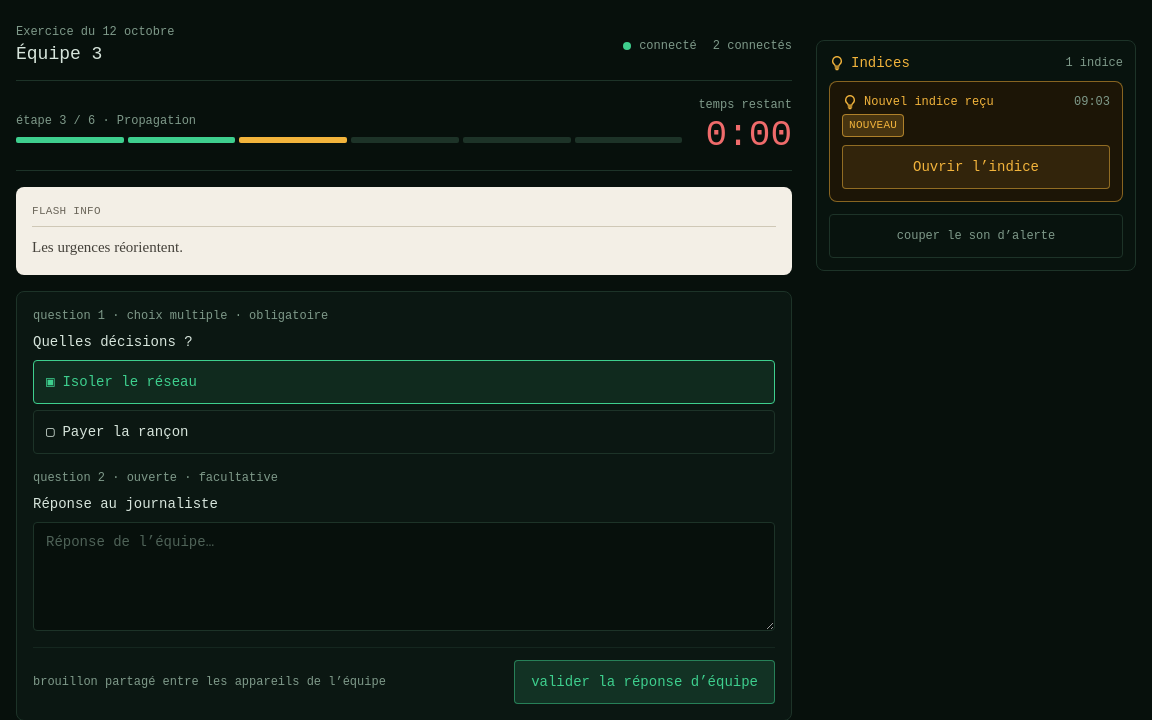
Test: écran participant › laisse revenir à la rédaction sans rien transmettre
The image size is (1152, 720).
What coordinates should you click on to do the following:
click the button "valider la réponse d’équipe"
I would click on:
 (645, 682)
Its box is [514,660,775,704].
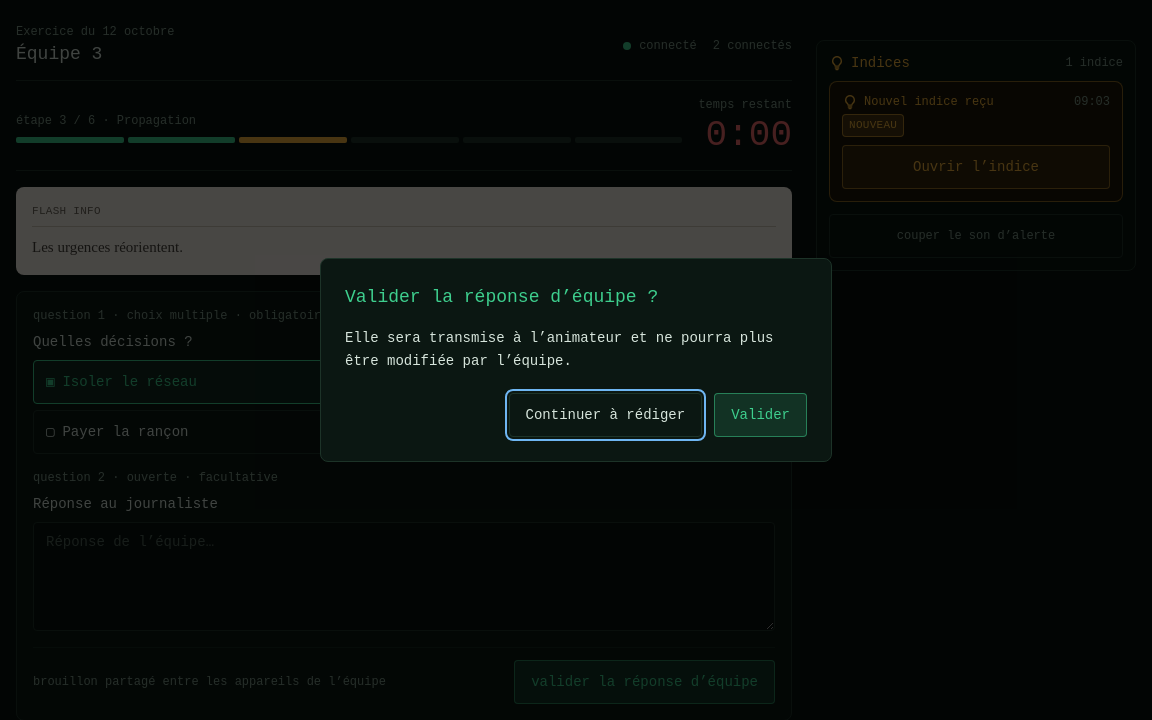
What coordinates should you click on to do the following:
click the button "Continuer à rédiger"
I would click on:
 (605, 415)
Its box is [508,393,702,437].
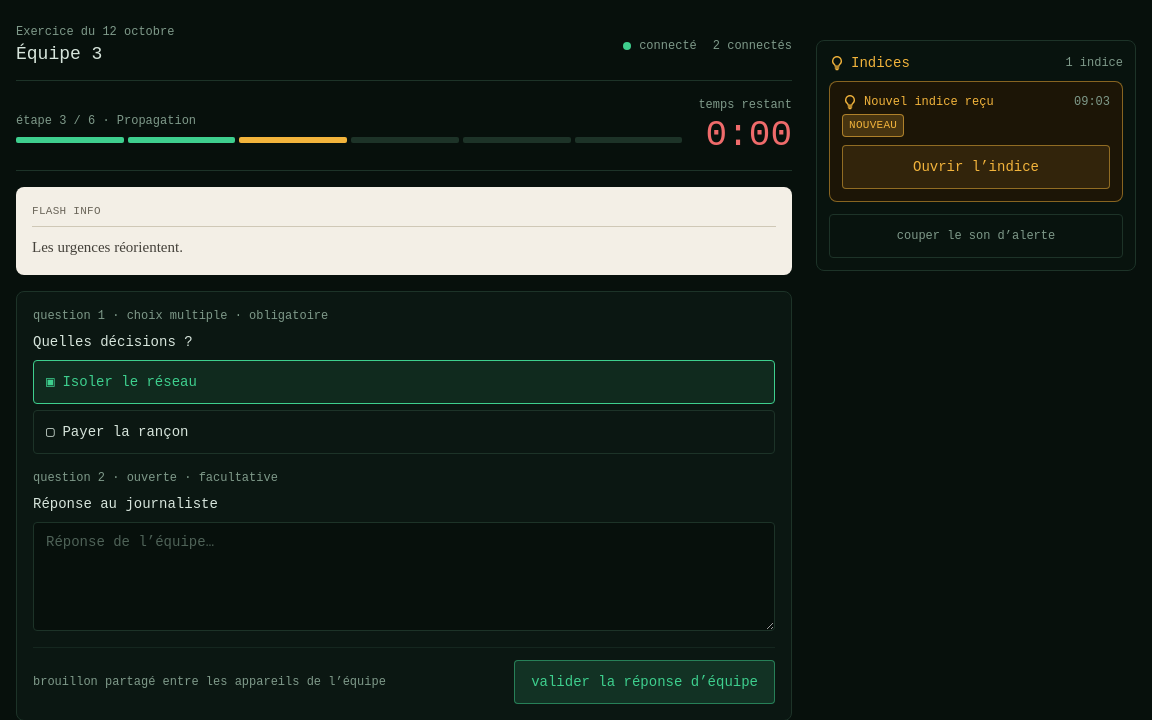
Check: the button "valider la réponse d’équipe" is enabled, box [514,660,775,704]
Check: the dialog is gone
